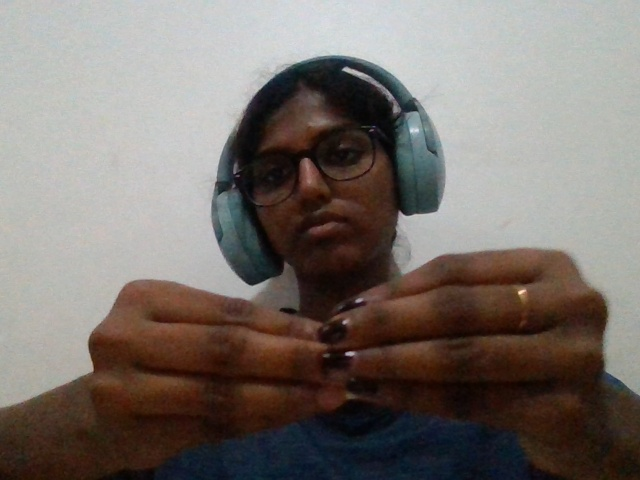More: (44, 242, 631, 480)
